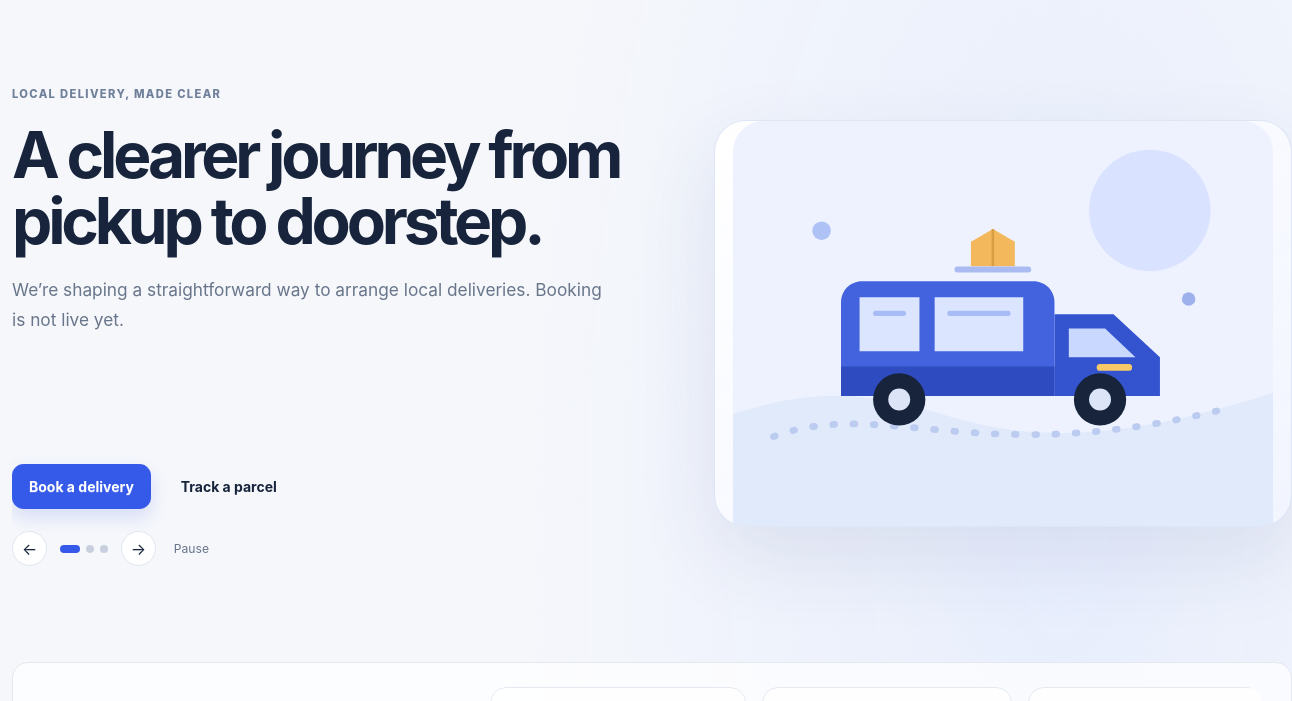
public delivery pages › routes the homepage booking CTA to sign-in with a clear payment boundary
Click the link "Book a delivery" at coordinates (81, 486), box [12,464,151,509]
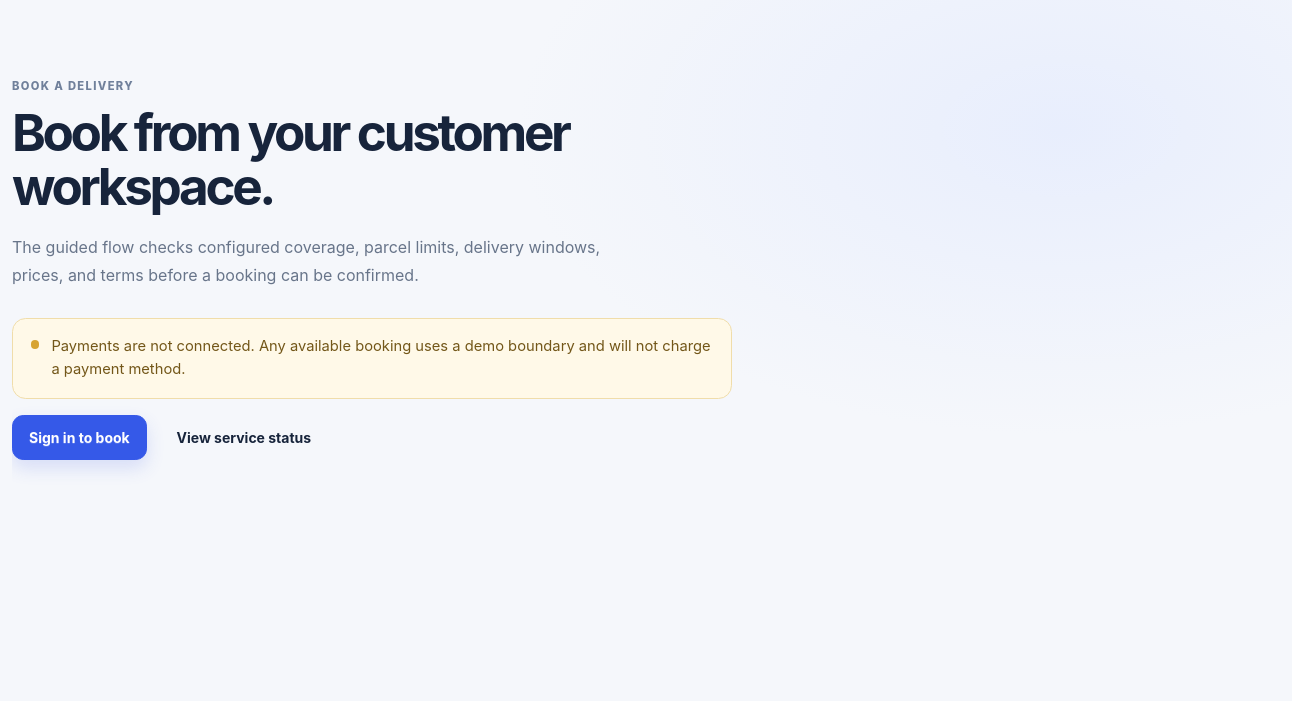
Now the heading "Book from your customer workspace." is shown, box [12,101,569,217]
Now the text "will not charge a payment method" is shown, box [51,337,711,378]
